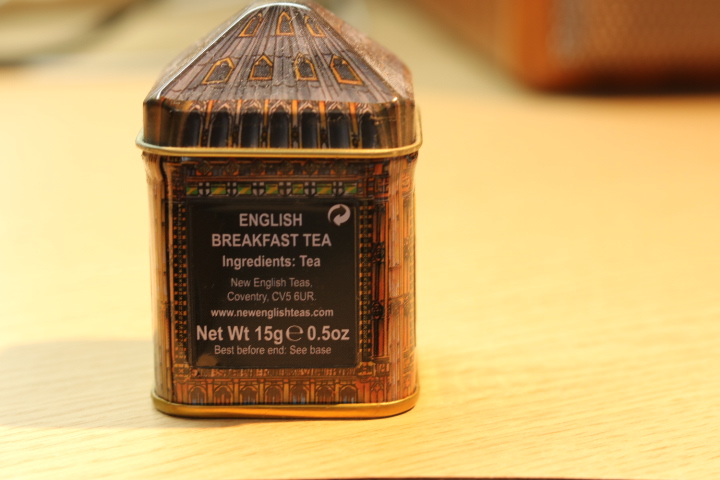Big Ben: (131, 1, 450, 448)
